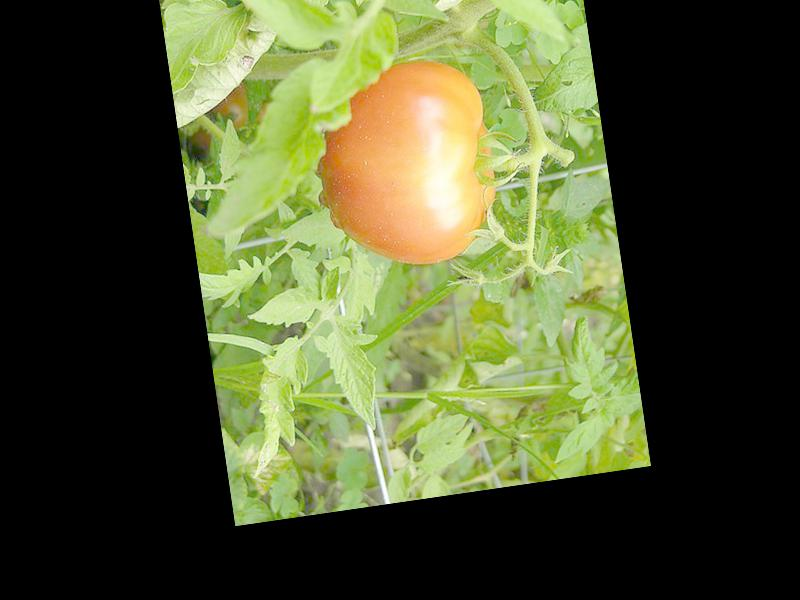Tomato: (309, 53, 506, 275)
